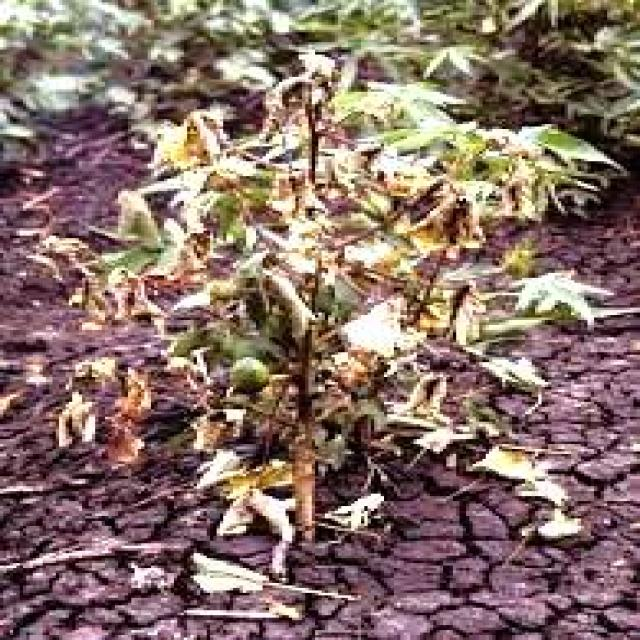Fusarium Wilt: (33, 30, 591, 640)
